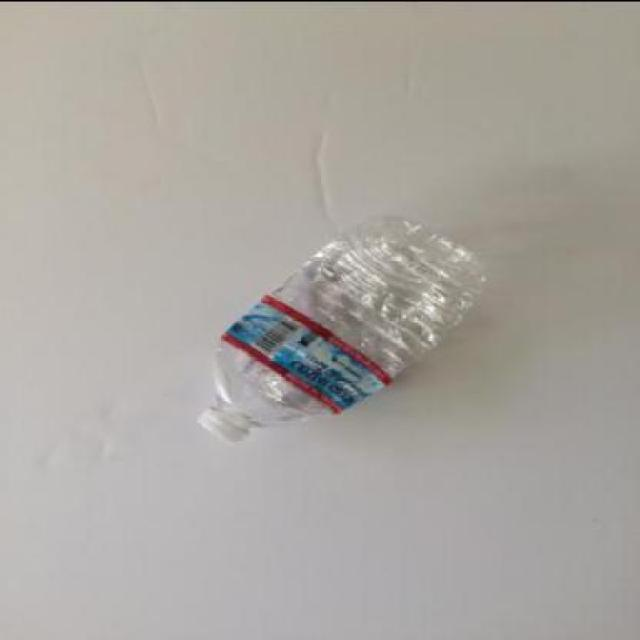PLASTIC: (200, 218, 488, 442), (221, 294, 394, 414), (198, 408, 254, 446)
